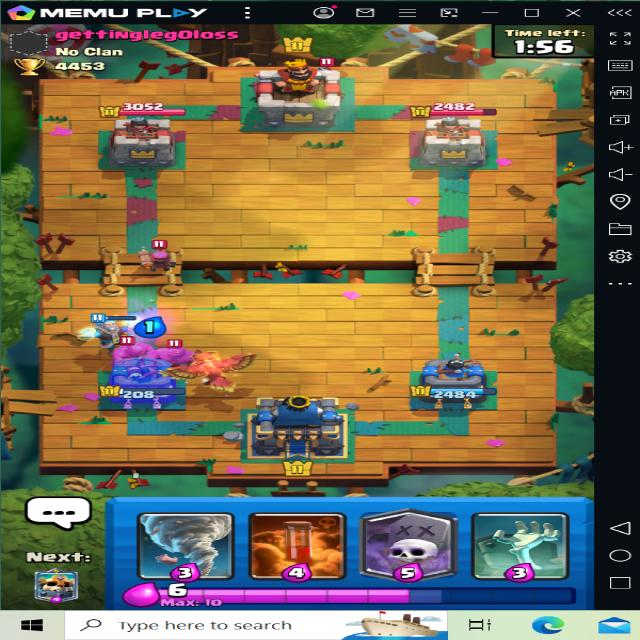electro-golem: (104, 334, 156, 368), (151, 338, 211, 367)
firecracker: (125, 233, 187, 275)
